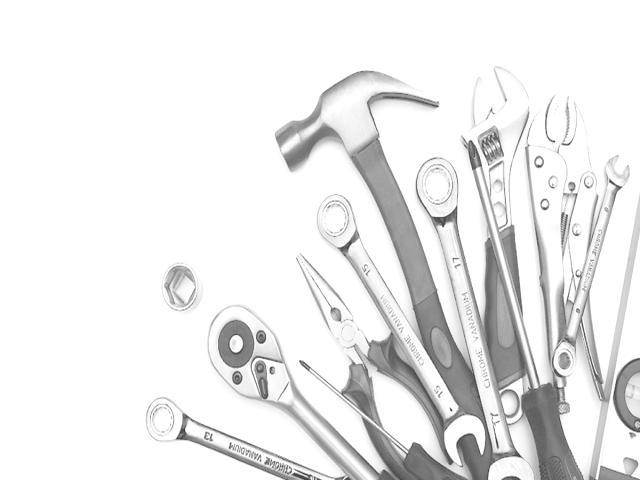Adjustable spanner: (461, 67, 529, 423)
Hammer: (276, 70, 481, 417)
Needle-nose pliers: (295, 253, 441, 480)
Ratchet: (208, 305, 380, 479)
Screwdriver: (300, 359, 466, 480)
Tape measure: (468, 142, 582, 480)
Wrench: (318, 195, 485, 464), (416, 158, 534, 480), (552, 155, 630, 377), (146, 398, 340, 480)
